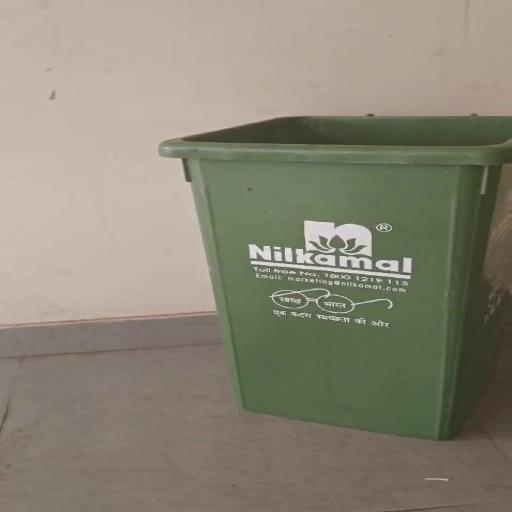Nilkamal-dustbin-detection: (161, 115, 511, 439)
